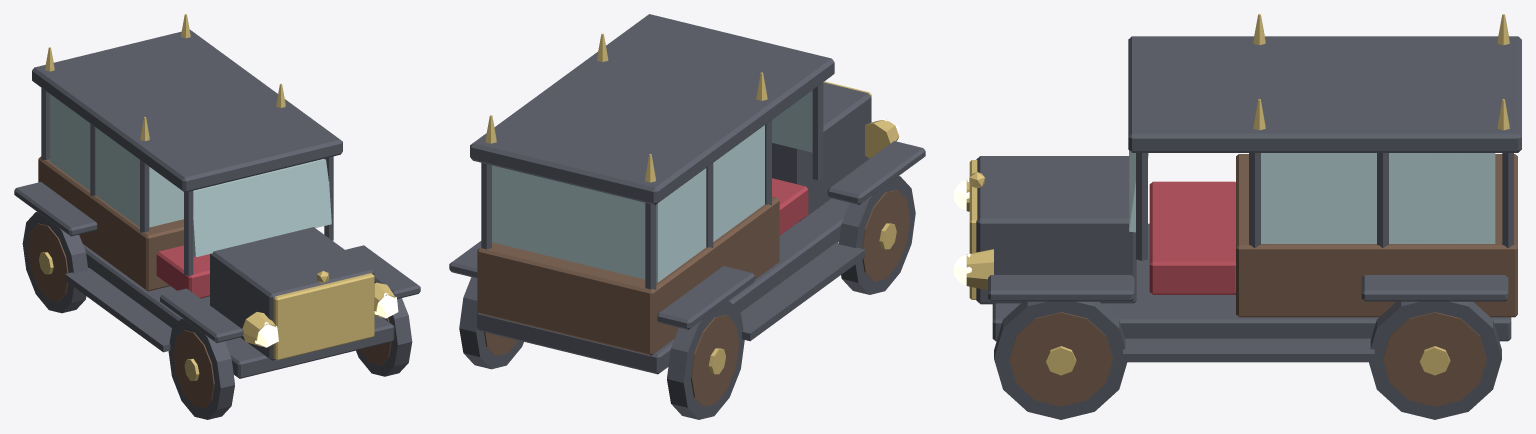
The model's file is outdoor_carriage.glb.
3 renders of one model, left to right at view 1: azimuth 30°, elevation 25°; view 2: azimuth 150°, elevation 25°; view 3: azimuth 270°, elevation 25°, orthographic. The views are drawn at different scales.
Parts seen in each view (by area): view 1: Outdoor_Carriage; view 2: Outdoor_Carriage; view 3: Outdoor_Carriage.
Boxes of the visible parts, box(x1,y1,x2,y2) form: Outdoor_Carriage: box(14, 14, 420, 419); Outdoor_Carriage: box(449, 14, 925, 419); Outdoor_Carriage: box(954, 14, 1521, 419).
Size of the model in its own units: 2 by 2.19 by 3.72.
